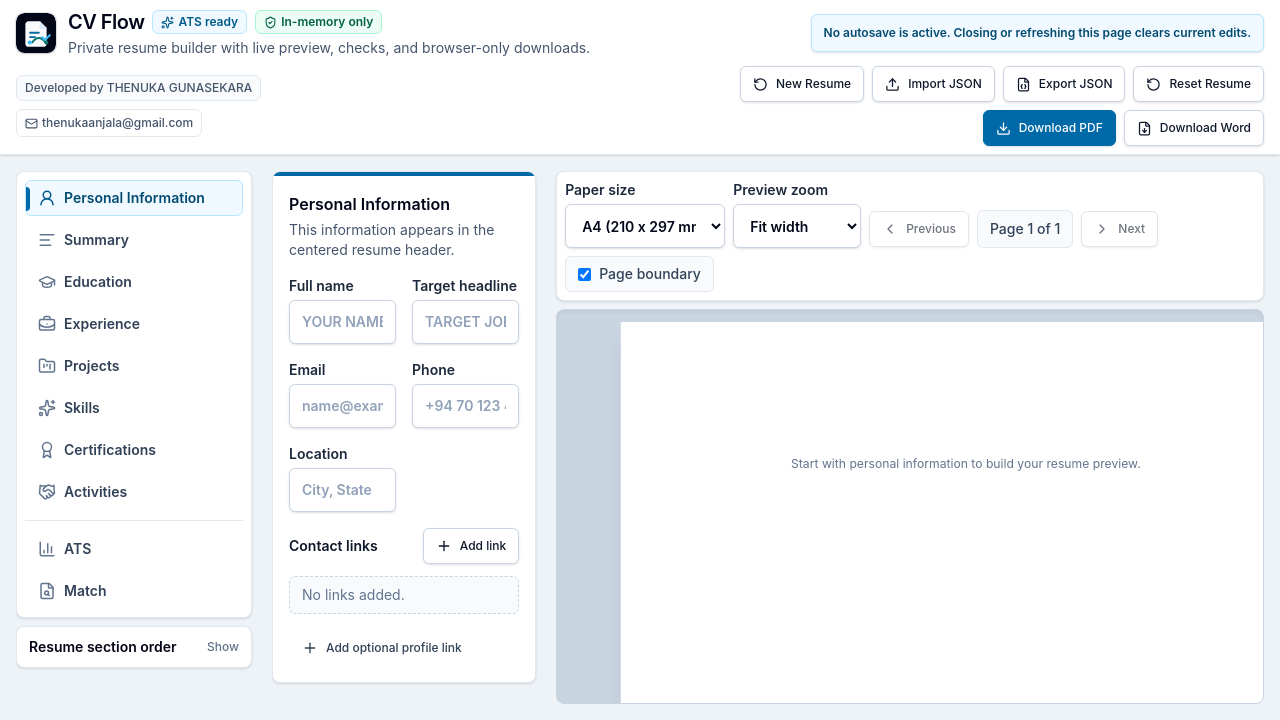
Test: ResumeBuilder browser workflows › shows validation messages for invalid personal information
In the field labelled "Email": point(343, 406) 289,384 -> 396,428, type "not-an-email"
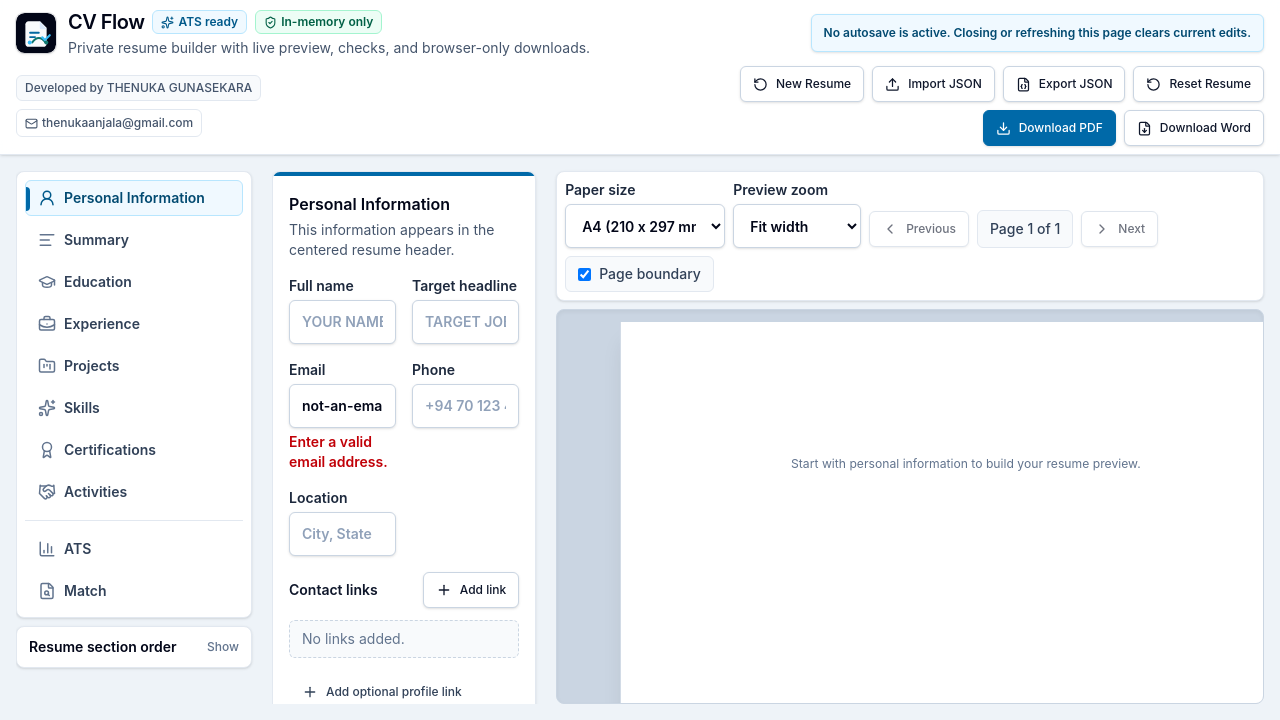
Result: the text "Enter a valid email address." is shown at 289,432 -> 396,472
